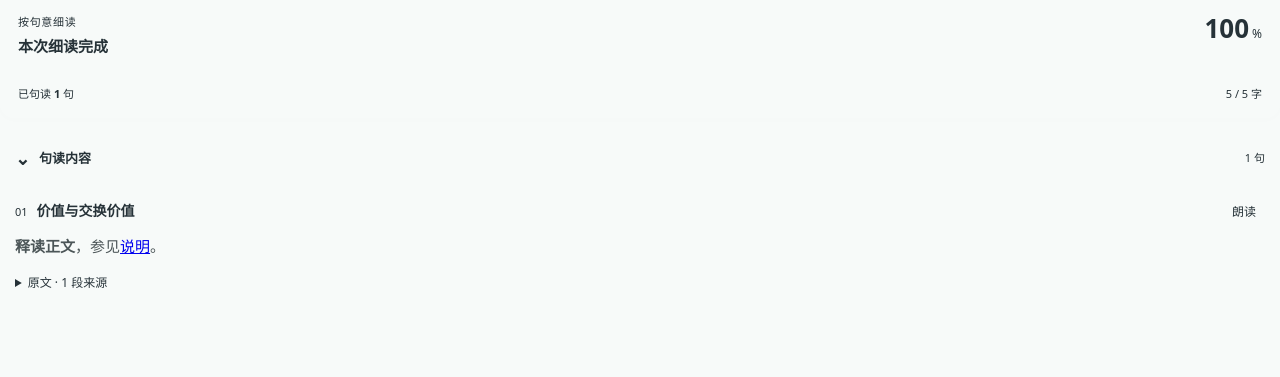
句读块标题右侧朗读本块正文，保留来源折叠及暂停继续停止
Click the button "朗读". click: x=1244, y=212
box: [1223,200,1265,224]
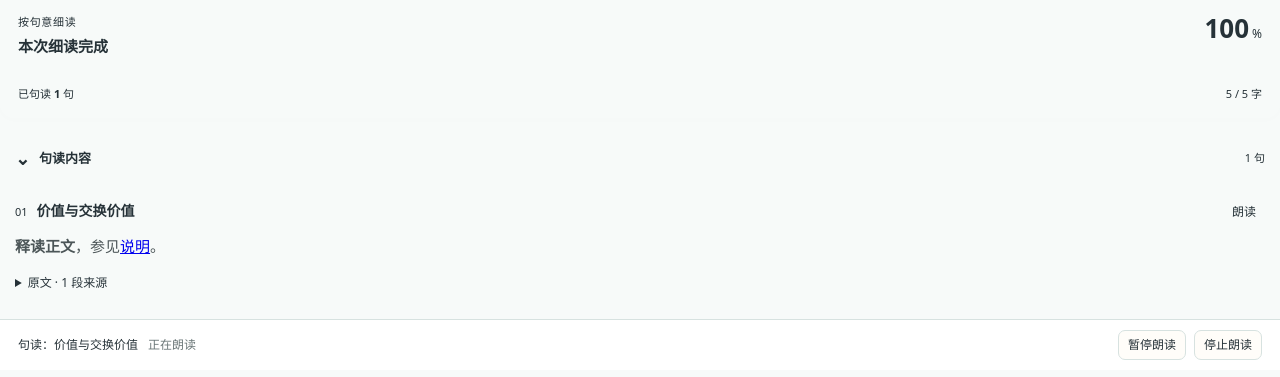
Result: the text "句读：价值与交换价值" is shown at [18,336,138,354]
Click the button "暂停朗读". click: x=1152, y=345
box: [1118,330,1186,360]
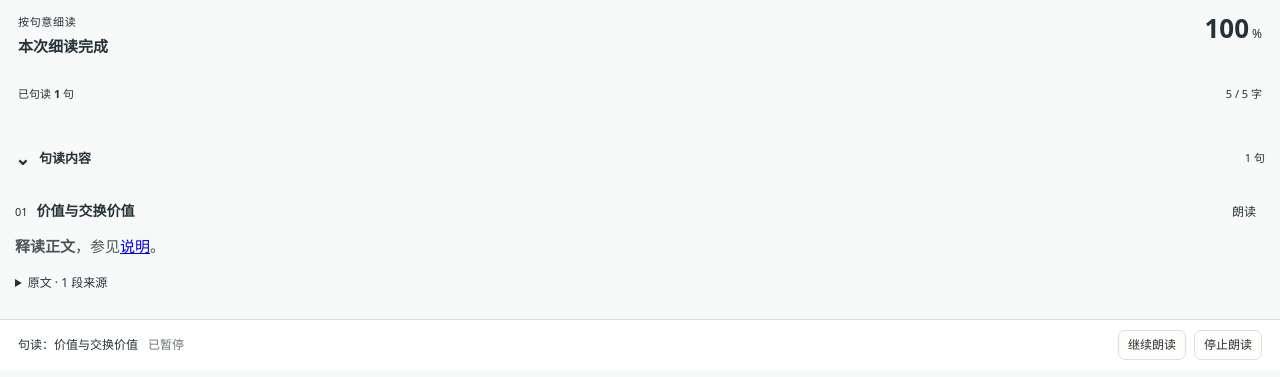
Result: the text "已暂停" is shown at [148,336,184,354]
Click the button "继续朗读". click: x=1152, y=345
box: [1118,330,1186,360]
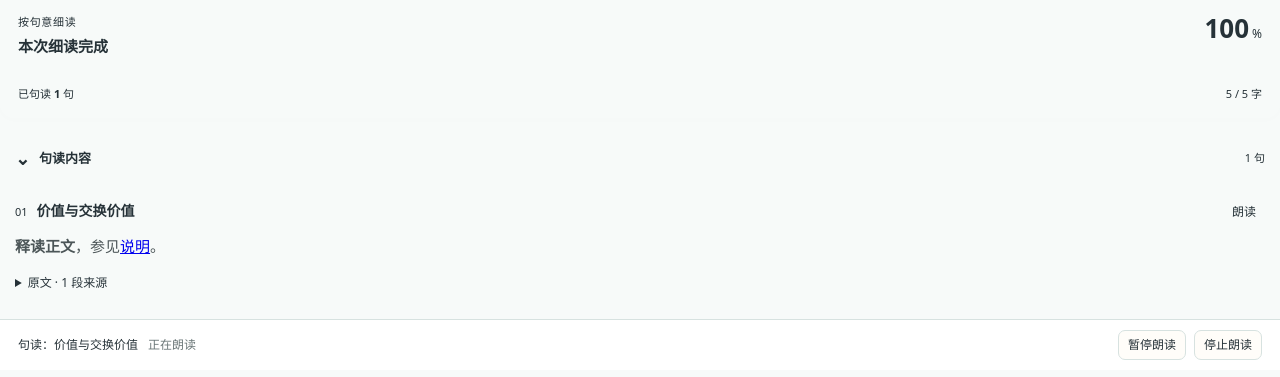
Result: the text "正在朗读" is shown at [148,336,196,354]
Click the button "停止朗读". click: x=1228, y=345
box: [1194,330,1262,360]
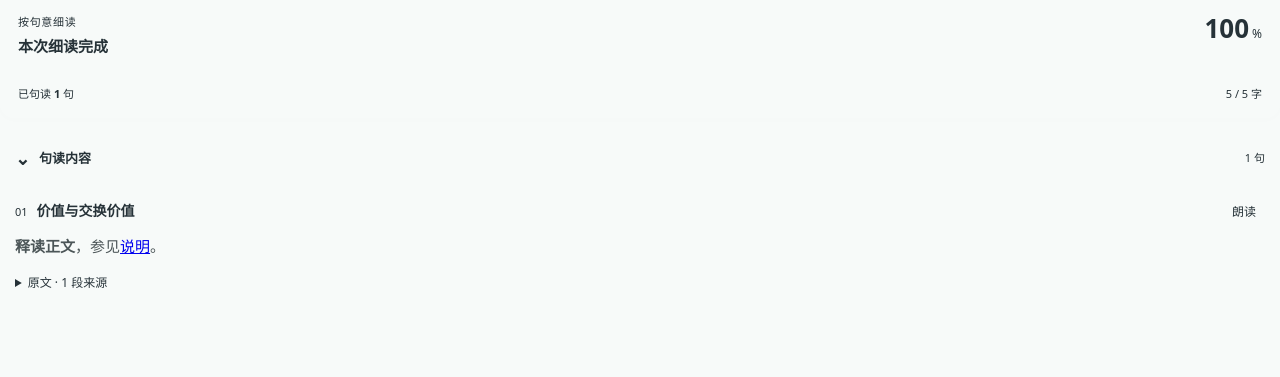
Result: the element with class "speech-footer" is gone
